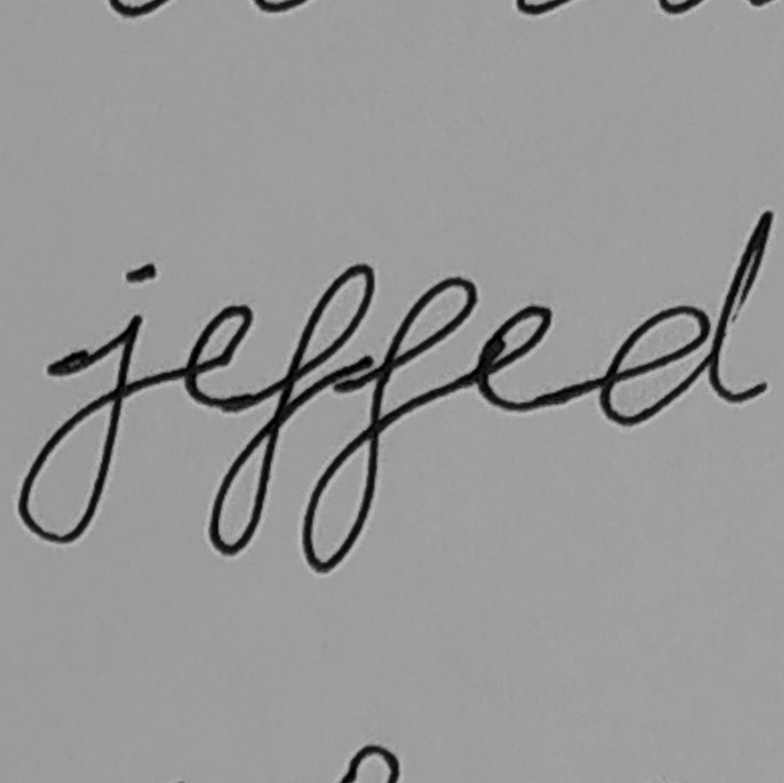d: (595, 204, 774, 431)
e: (470, 299, 562, 414), (180, 302, 260, 415)
f: (299, 273, 480, 578), (203, 260, 379, 559)
j: (13, 259, 158, 547)
